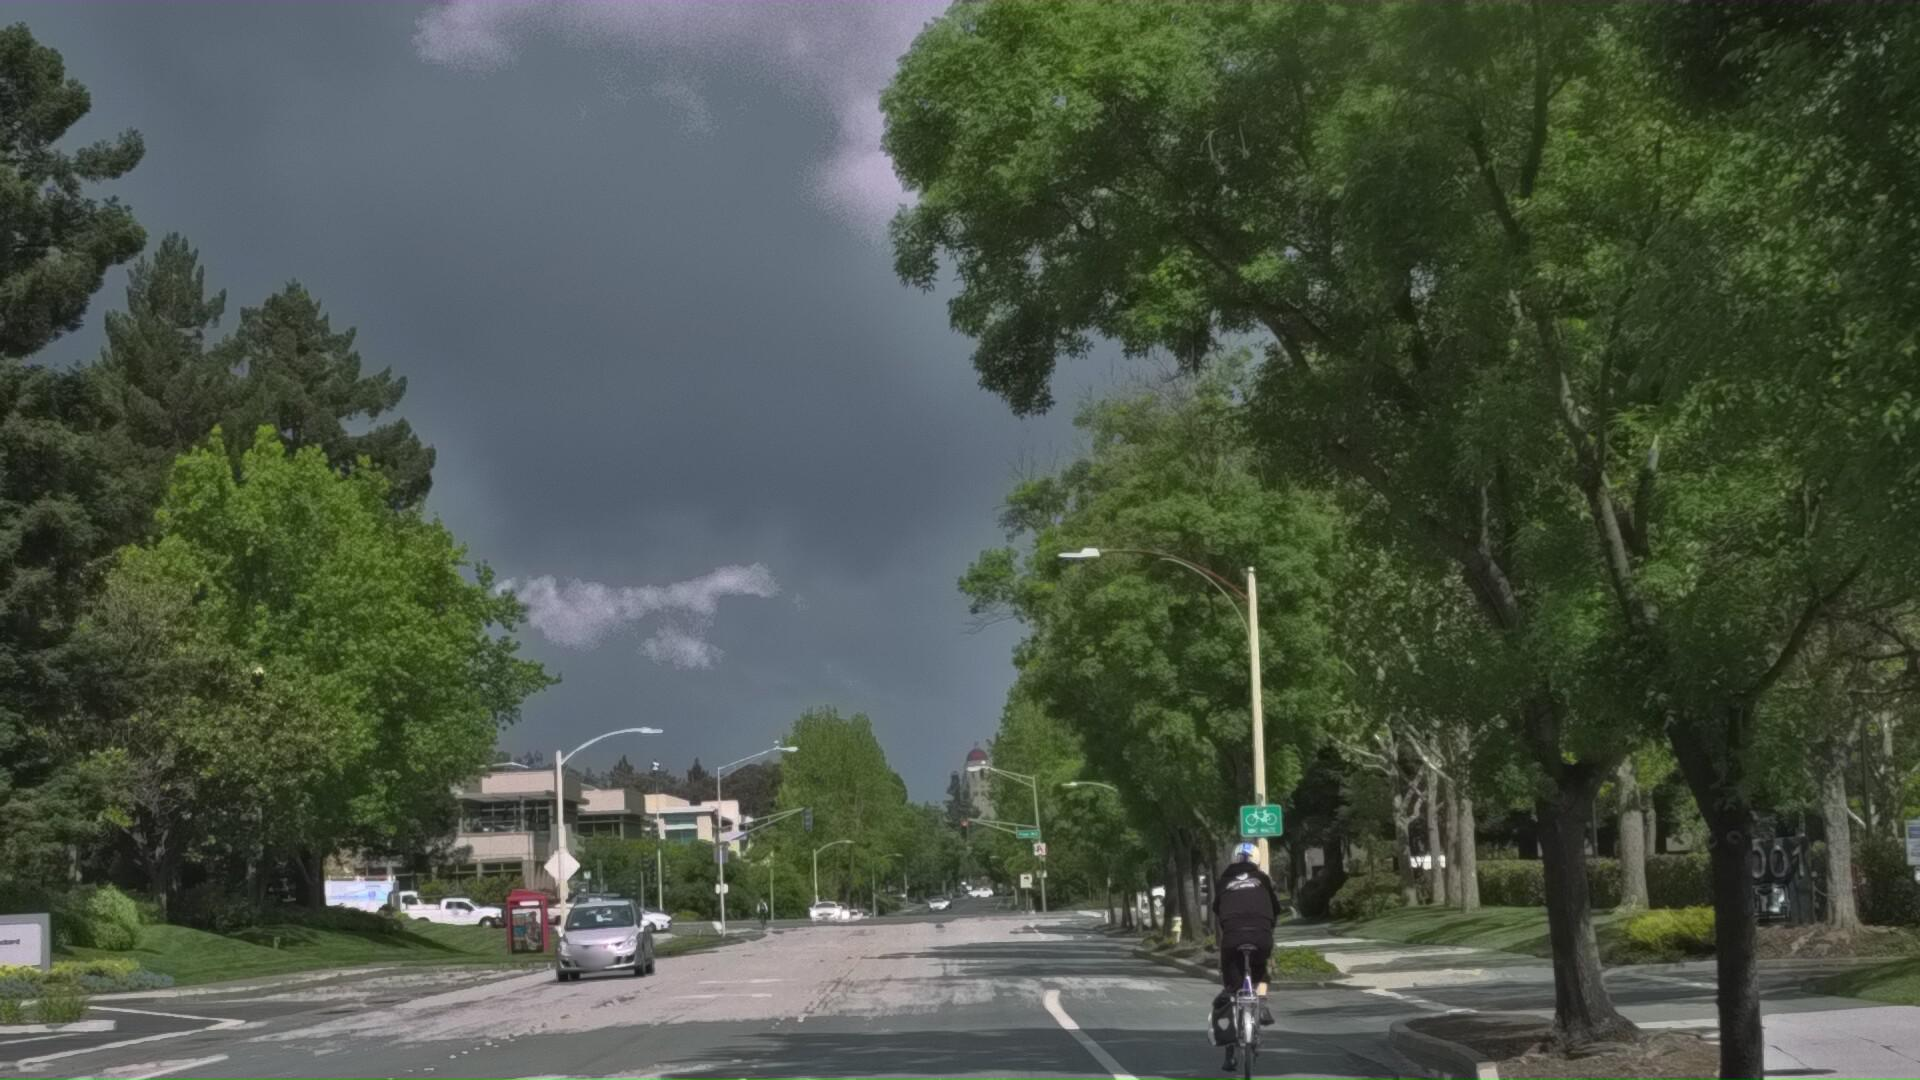bicycle: (1183, 916, 1331, 1080)
car: (542, 978, 651, 1069)
